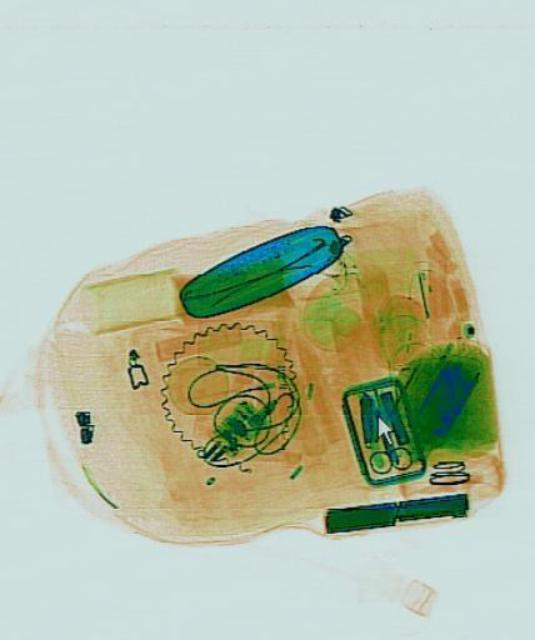Scissors: (356, 411, 411, 477)
